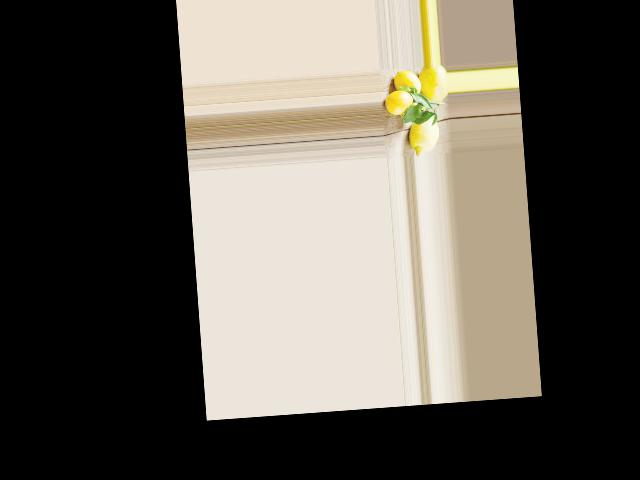lemon: (403, 108, 441, 156)
